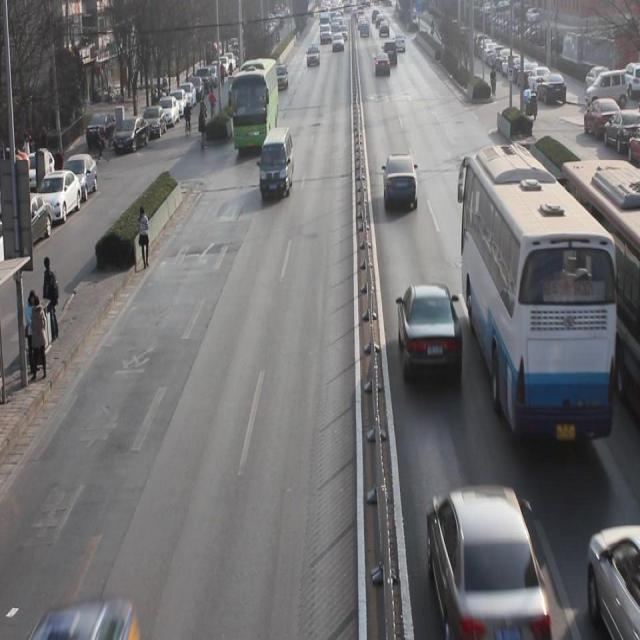car: (426, 483, 556, 632), (397, 284, 464, 388), (381, 153, 419, 208), (374, 52, 392, 77), (307, 43, 322, 72), (274, 62, 288, 93), (332, 34, 344, 52)
truck: (260, 125, 294, 202)
van: (462, 147, 614, 448), (557, 164, 640, 406), (230, 64, 276, 160)
